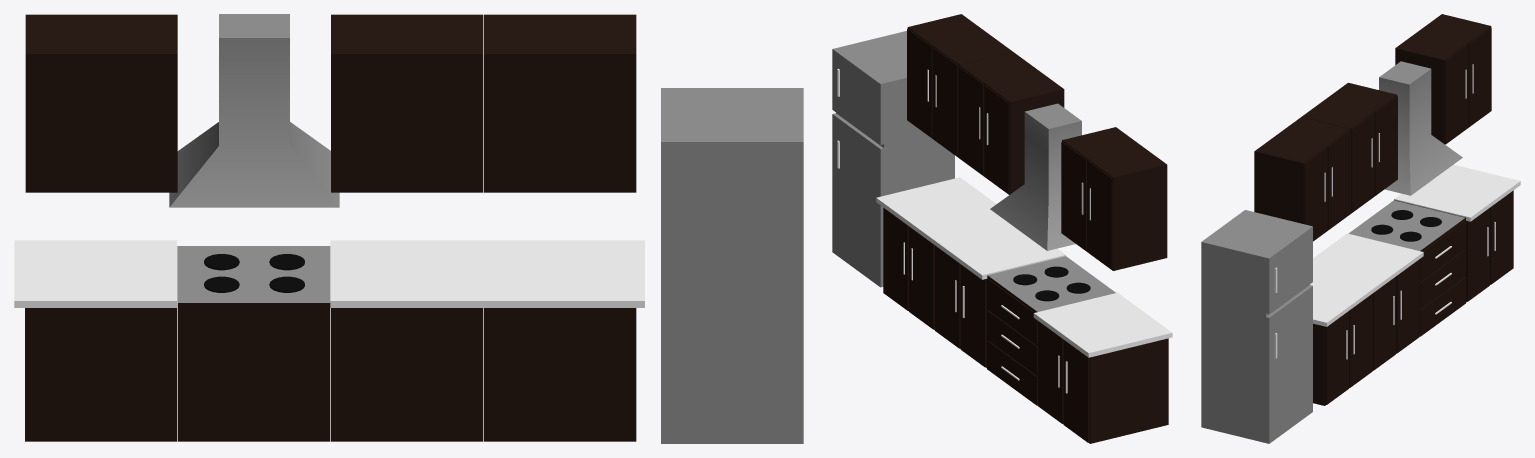
Rendered from Kitchen1.obj.
The picture shows the model from 3 angles, left to right: view 1: azimuth 30°, elevation 25°; view 2: azimuth 150°, elevation 25°; view 3: azimuth 270°, elevation 25°; orthographic projection. The views are drawn at different scales.
Visible parts, largest first — view 1: Box044, Box045, Box049, Box058, Box059, Box043, Box047, Box050, Box051, Box038, Box042; view 2: Box044, Box059, Box047, Box058, Box043, Box049, Box038, Box042, Box048, Box051, Box050, Box045; view 3: Box044, Box049, Box059, Box058, Box043, Box038, Box050, Box047, Box048, Box042, Box051, Box045.
Part boxes in pixels (x1=…): Box044: x1=661, y1=88, x2=803, y2=443; Box045: x1=178, y1=246, x2=330, y2=441; Box049: x1=484, y1=14, x2=636, y2=192; Box058: x1=331, y1=14, x2=483, y2=192; Box059: x1=25, y1=14, x2=177, y2=192; Box043: x1=330, y1=240, x2=644, y2=307; Box047: x1=25, y1=246, x2=177, y2=441; Box050: x1=484, y1=308, x2=636, y2=441; Box051: x1=331, y1=308, x2=483, y2=441; Box038: x1=169, y1=14, x2=339, y2=207; Box042: x1=14, y1=240, x2=176, y2=307; Box044: x1=832, y1=31, x2=954, y2=287; Box059: x1=1061, y1=127, x2=1167, y2=270; Box047: x1=1038, y1=321, x2=1168, y2=443; Box058: x1=958, y1=52, x2=1064, y2=194; Box043: x1=876, y1=177, x2=1065, y2=279; Box049: x1=907, y1=14, x2=1012, y2=157; Box038: x1=990, y1=103, x2=1081, y2=250; Box042: x1=1033, y1=292, x2=1172, y2=357; Box048: x1=987, y1=278, x2=1037, y2=405; Box051: x1=935, y1=245, x2=987, y2=367; Box050: x1=883, y1=208, x2=934, y2=329; Box045: x1=987, y1=256, x2=1115, y2=376; Box044: x1=1201, y1=210, x2=1312, y2=443; Box049: x1=1254, y1=117, x2=1350, y2=241; Box059: x1=1395, y1=14, x2=1491, y2=144; Box058: x1=1302, y1=82, x2=1397, y2=213; Box043: x1=1310, y1=233, x2=1423, y2=326; Box038: x1=1379, y1=61, x2=1462, y2=195; Box050: x1=1313, y1=294, x2=1372, y2=405; Box047: x1=1394, y1=190, x2=1513, y2=302; Box048: x1=1419, y1=220, x2=1465, y2=336; Box042: x1=1394, y1=164, x2=1520, y2=221; Box051: x1=1372, y1=259, x2=1419, y2=370; Box045: x1=1348, y1=200, x2=1465, y2=309.
Size of the model in its own units: 32128 by 18499 by 22345.
